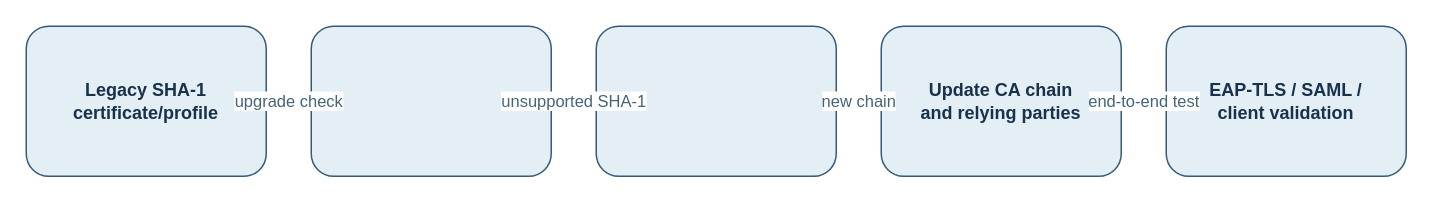
Some shapes in this 1433 by 203 pixel diagram are drawn without their labels. Here are the shapes that lost their labels. From the top down, the centre of each, then its label:
the point at 430,100: FortiAuthenticator algorithm support gate
the point at 715,100: Reissue using SHA-256 or stronger
